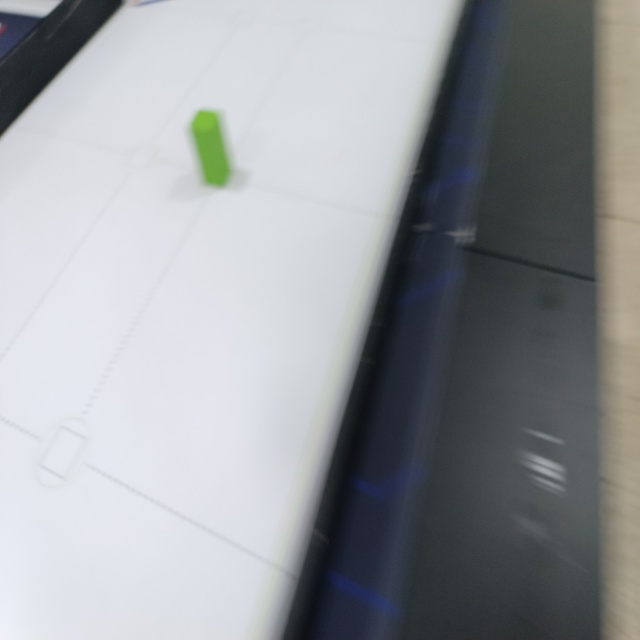green rectangular prism: (185, 111, 241, 186)
